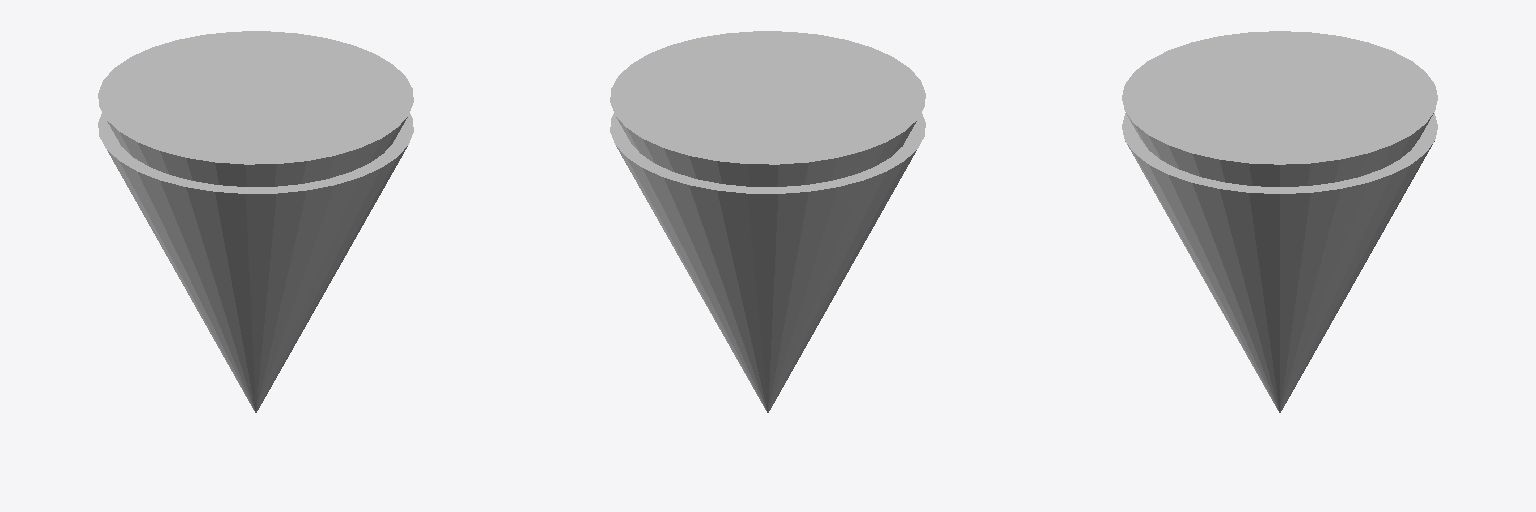
File: island4.obj
The picture shows the model from 3 angles: view 1: azimuth 30°, elevation 25°; view 2: azimuth 150°, elevation 25°; view 3: azimuth 270°, elevation 25°; orthographic projection.
Parts seen in each view (by area): view 1: Cone, Cone.001; view 2: Cone, Cone.001; view 3: Cone, Cone.001.
Part boxes in pixels (x1,y1,x2,y2): Cone: (98, 31, 413, 186); Cone.001: (98, 113, 413, 412); Cone: (610, 31, 925, 186); Cone.001: (610, 113, 925, 412); Cone: (1122, 31, 1437, 186); Cone.001: (1122, 113, 1437, 412).
Bounding box in the file's own units: 2 × 2.2 × 2.